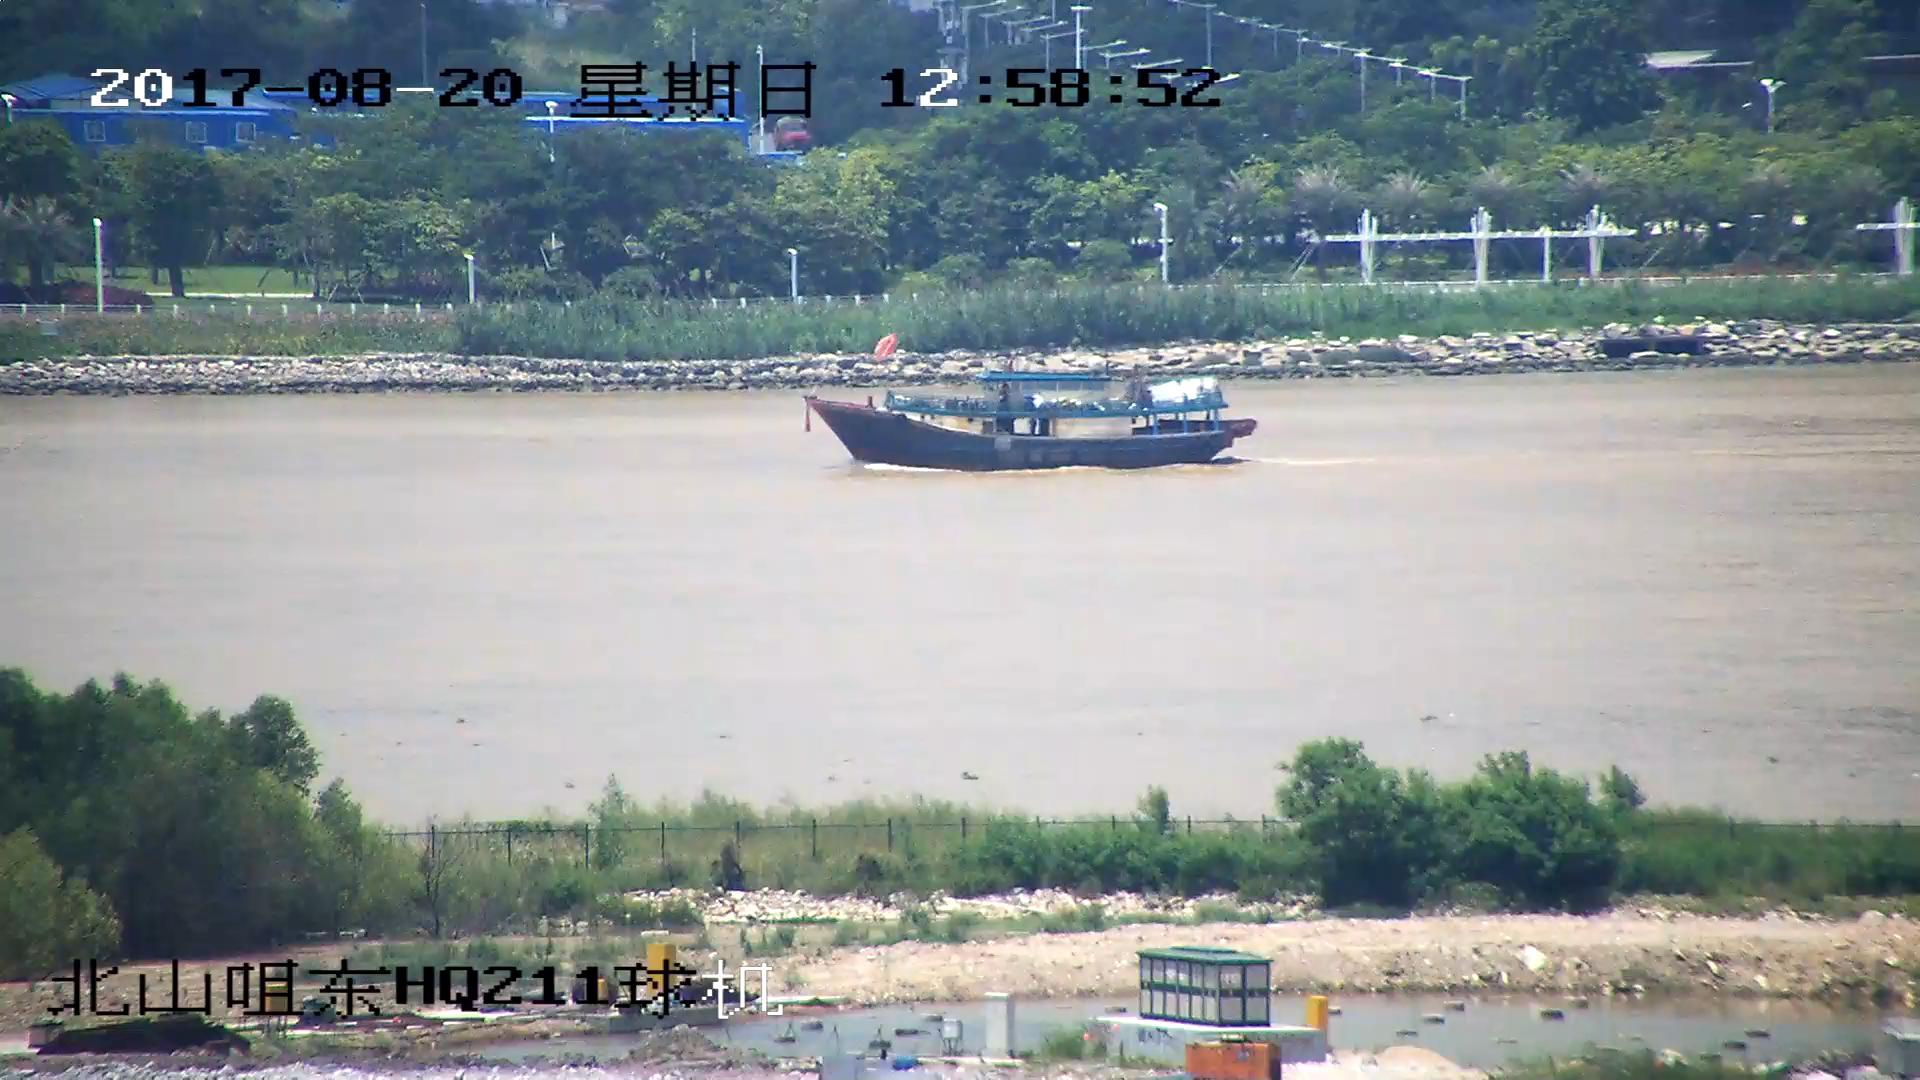fishing boat: (805, 371, 1254, 470)
